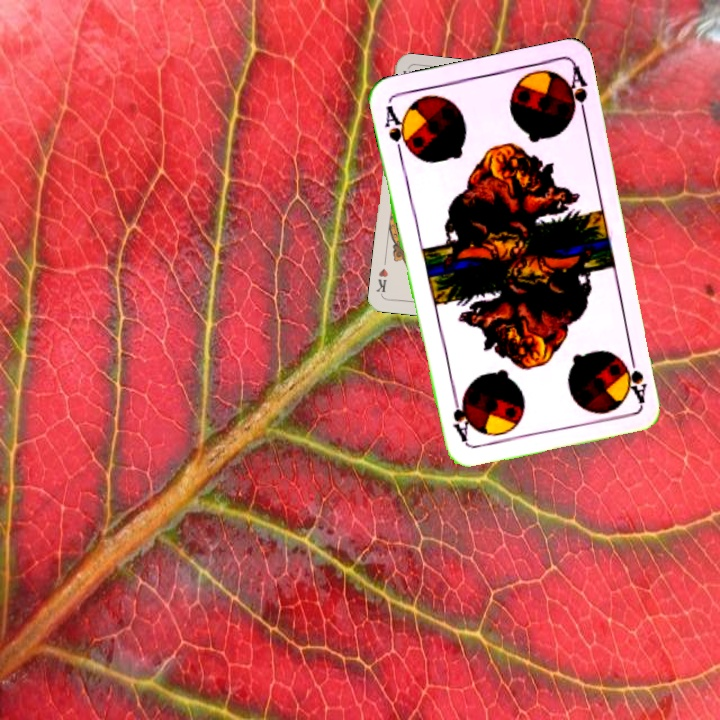SA: (380, 101, 414, 160), (619, 347, 650, 406)
